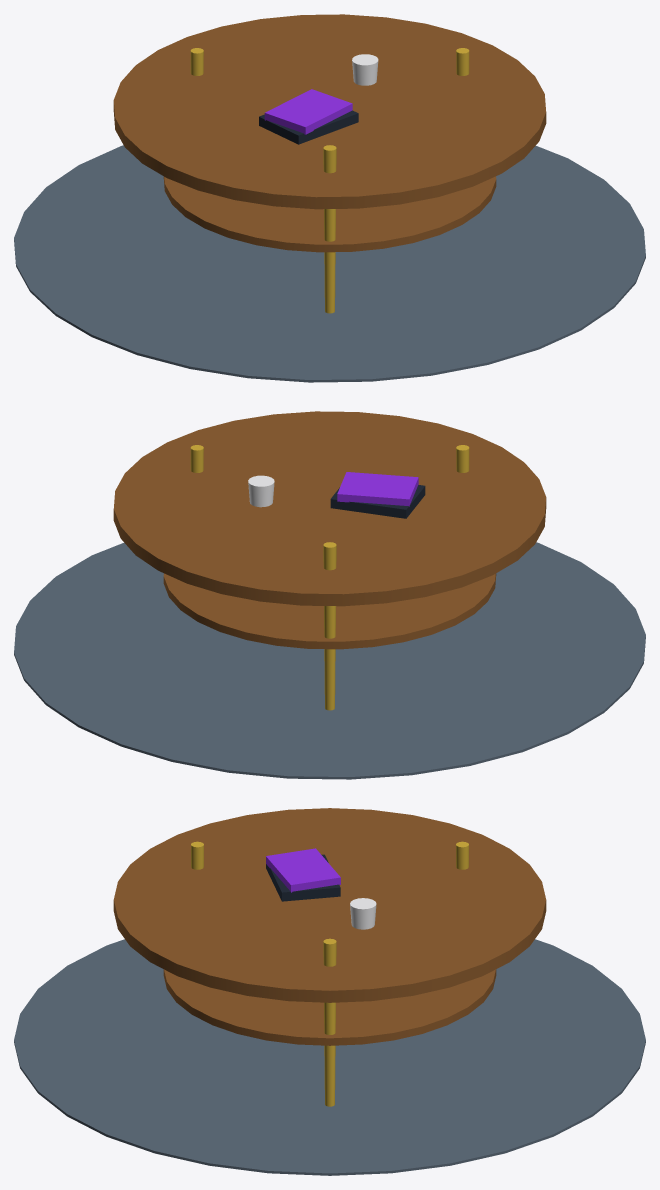
The model's file is coffee-table.glb.
3 views of the same model, one above another, from view 1: azimuth 30°, elevation 25°; view 2: azimuth 150°, elevation 25°; view 3: azimuth 270°, elevation 25° (orthographic).
Parts seen in each view (by area): view 1: accessory_rug, table_top, shelf, accessory_book2, CoffeeTable, accessory_book1, accessory_mug; view 2: accessory_rug, table_top, shelf, accessory_book2, CoffeeTable, accessory_book1, accessory_mug; view 3: accessory_rug, table_top, shelf, accessory_book2, CoffeeTable, accessory_book1, accessory_mug.
Part boxes in pixels (x1,y1,x2,y2): accessory_rug: (14,145,645,382); table_top: (113,14,546,209); shelf: (163,176,496,252); accessory_book2: (264,89,352,134); CoffeeTable: (190,48,469,313); accessory_book1: (259,110,358,144); accessory_mug: (352,54,378,85); accessory_rug: (14,542,645,779); table_top: (113,411,546,606); shelf: (163,573,496,649); accessory_book2: (337,472,418,506); CoffeeTable: (190,445,469,710); accessory_book1: (330,485,425,518); accessory_mug: (248,475,274,507); accessory_rug: (14,939,645,1175); table_top: (113,808,546,1002); shelf: (163,969,496,1045); accessory_book2: (266,848,340,892); CoffeeTable: (191,841,468,1106); accessory_book1: (266,854,340,901); accessory_mug: (350,898,376,929).
Size of the model in its own units: 1.9 by 0.55 by 1.9.
